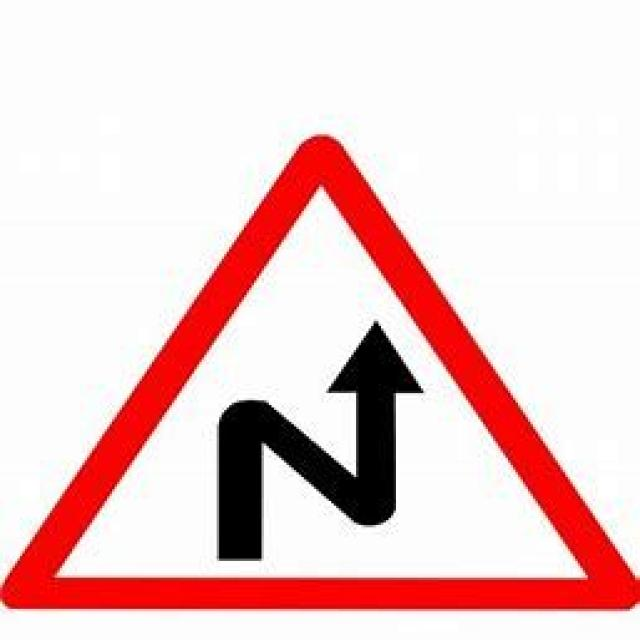RIGHT_REVERSE_BEND: (0, 118, 640, 621)
